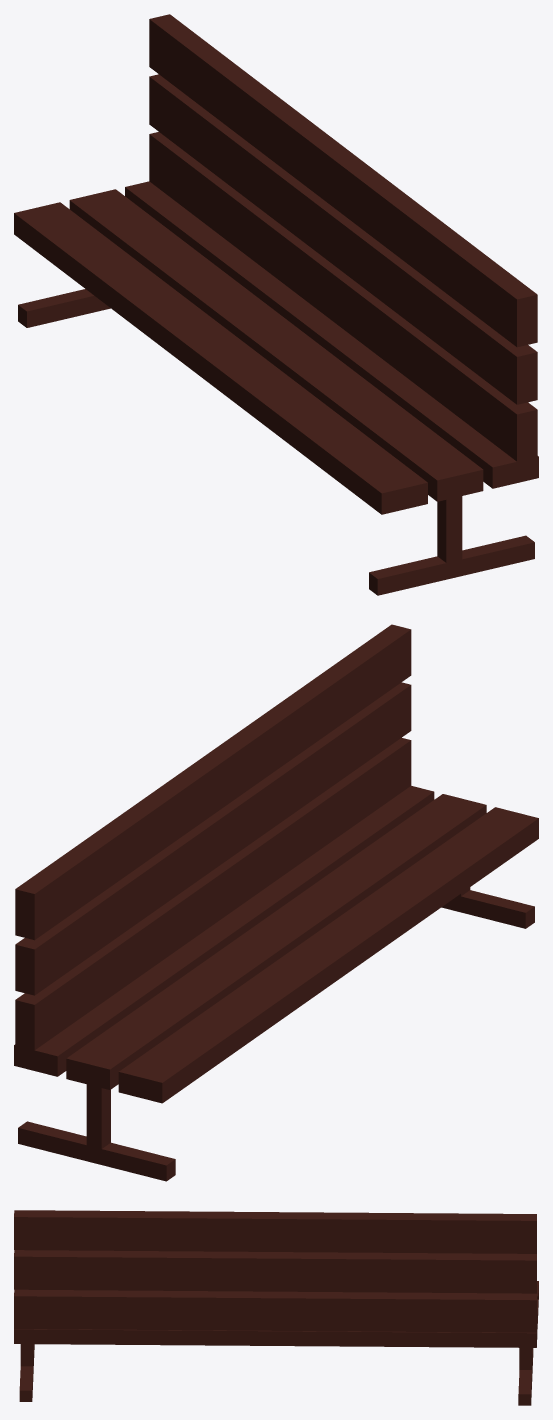
Rendered from bench.fbx.
3 renders of one model, top to bottom at view 1: azimuth 30°, elevation 25°; view 2: azimuth 150°, elevation 25°; view 3: azimuth 270°, elevation 25°, orthographic. The views are drawn at different scales.
Visible parts, largest first — view 1: bench; view 2: bench; view 3: bench.
Part boxes in pixels (<box>): bench: <box>14,14,538,595</box>; bench: <box>14,624,538,1181</box>; bench: <box>14,1210,538,1405</box>.
Size of the model in its own units: 30.12 by 46.06 by 119.
